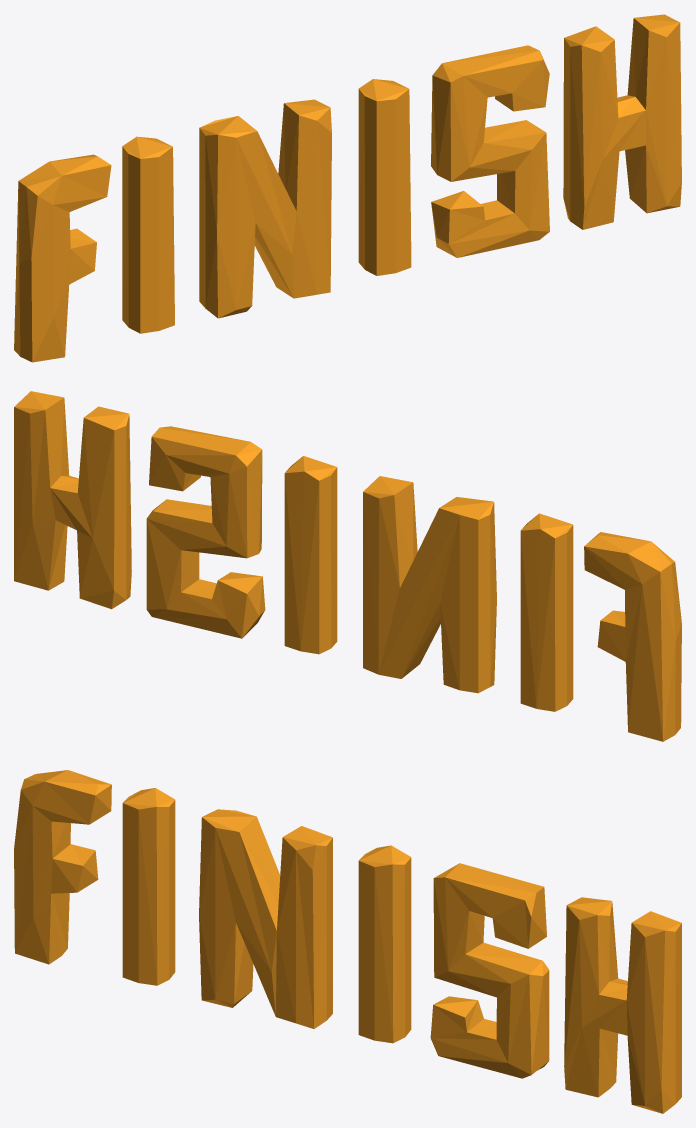
Rendered from SM_Icon_Text_Finish_01.fbx.
3 renders of one model, top to bottom at view 1: azimuth 30°, elevation 25°; view 2: azimuth 150°, elevation 25°; view 3: azimuth 330°, elevation 25°, orthographic.
Parts seen in each view (by area): view 1: SM_Icon_Text_Finish_03; view 2: SM_Icon_Text_Finish_03; view 3: SM_Icon_Text_Finish_03.
Boxes of the visible parts, <box> form: SM_Icon_Text_Finish_03: <box>14,14,681,362</box>; SM_Icon_Text_Finish_03: <box>14,391,681,741</box>; SM_Icon_Text_Finish_03: <box>14,770,681,1113</box>.
Size of the model in its own units: 0.0111 by 0.00303 by 0.000621.
